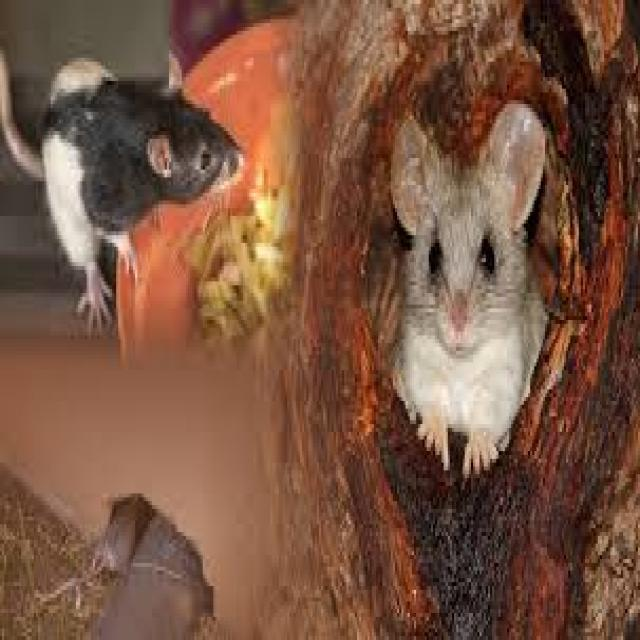Rat: (4, 39, 281, 337), (378, 83, 576, 480)
